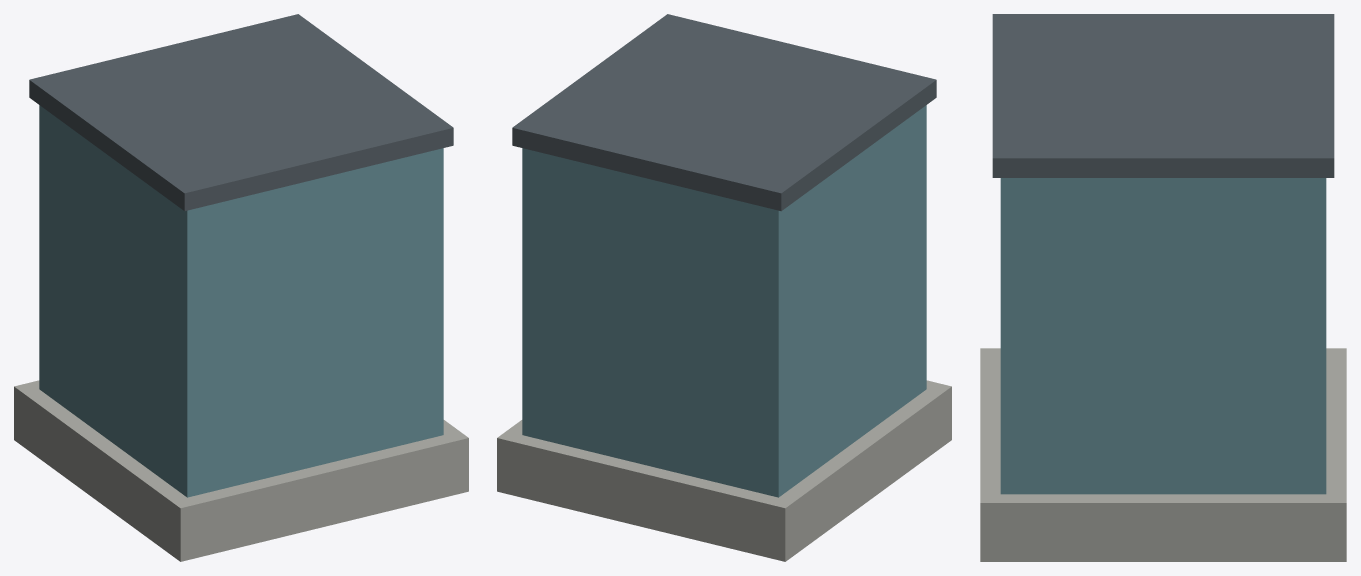
File: water_tank.glb
The picture shows the model from 3 angles, left to right: view 1: azimuth 30°, elevation 25°; view 2: azimuth 150°, elevation 25°; view 3: azimuth 270°, elevation 25°; orthographic projection. The views are drawn at different scales.
Visible parts, largest first — view 1: body; view 2: body; view 3: body.
Boxes of the visible parts, <box> form: body: <box>14,14,468,561</box>; body: <box>497,14,951,561</box>; body: <box>980,14,1346,561</box>.
Size of the model in its own units: 1.35 by 1.62 by 1.35.
